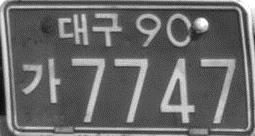0: (166, 12, 192, 47)
4: (158, 56, 196, 123)
7: (198, 54, 237, 123), (69, 55, 107, 124), (112, 56, 150, 125)
9: (134, 10, 161, 47)
가: (19, 56, 62, 105)
대구_O: (56, 9, 123, 49)
